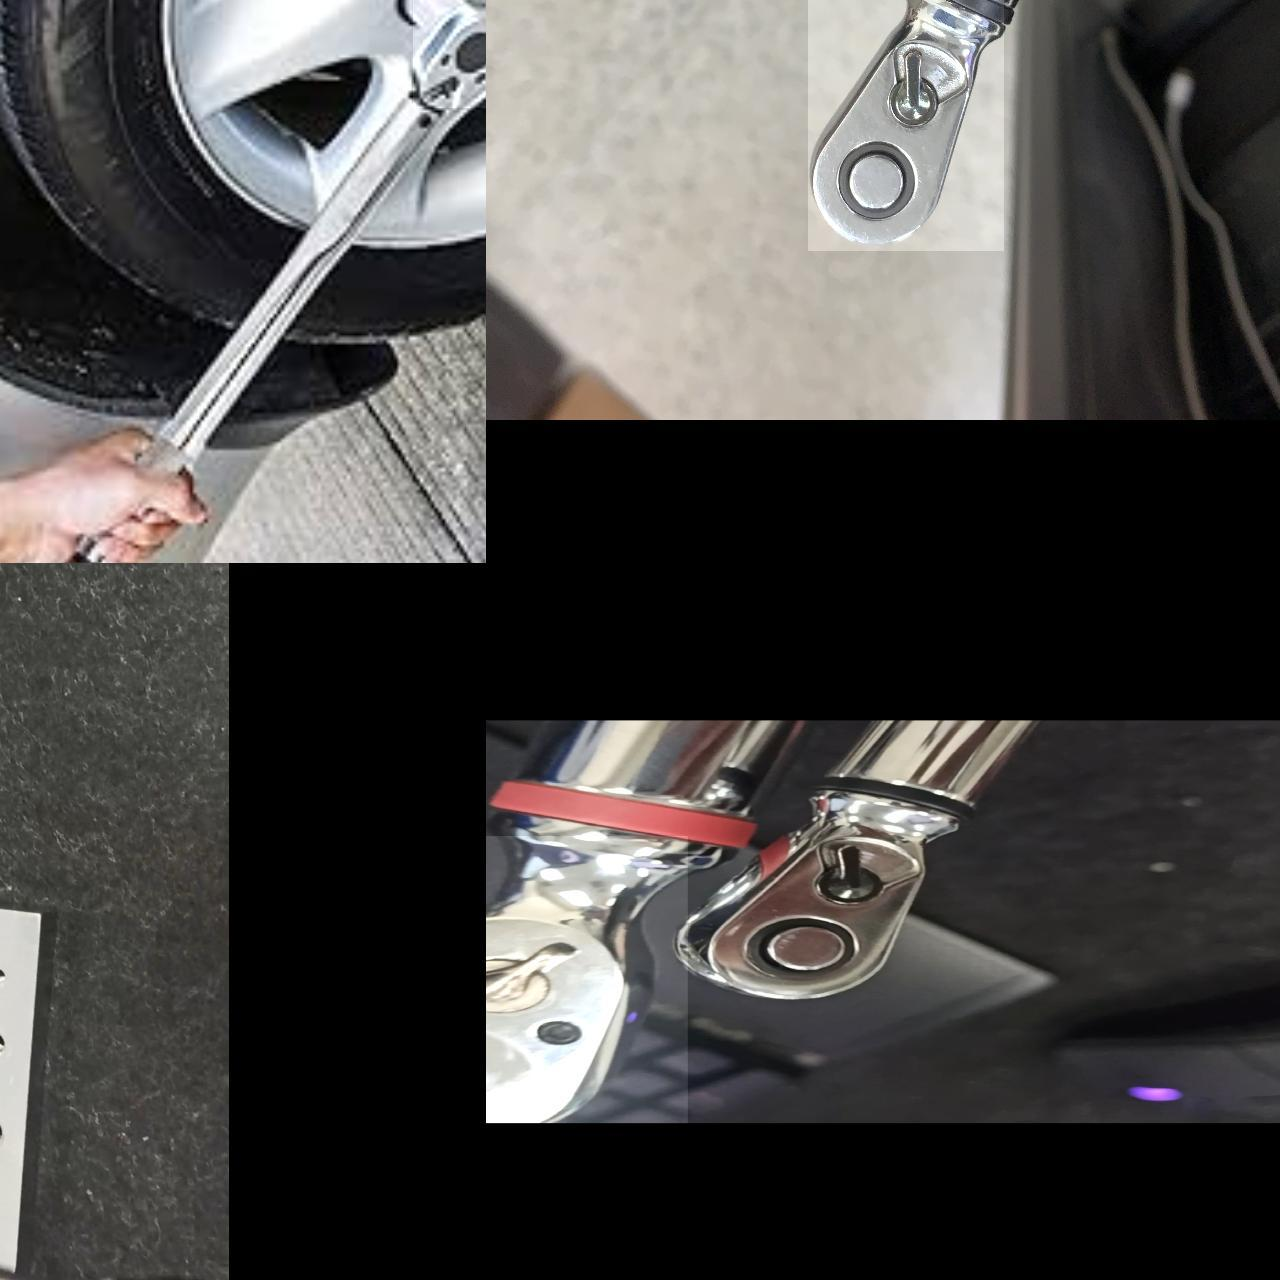Tool: (486, 835, 688, 1123), (670, 815, 967, 1007), (808, 0, 1005, 250), (413, 0, 486, 107)
